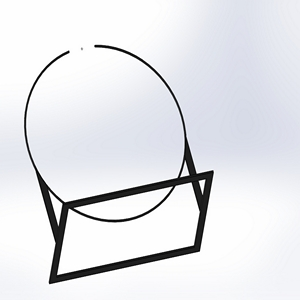circle: (21, 40, 217, 284)
